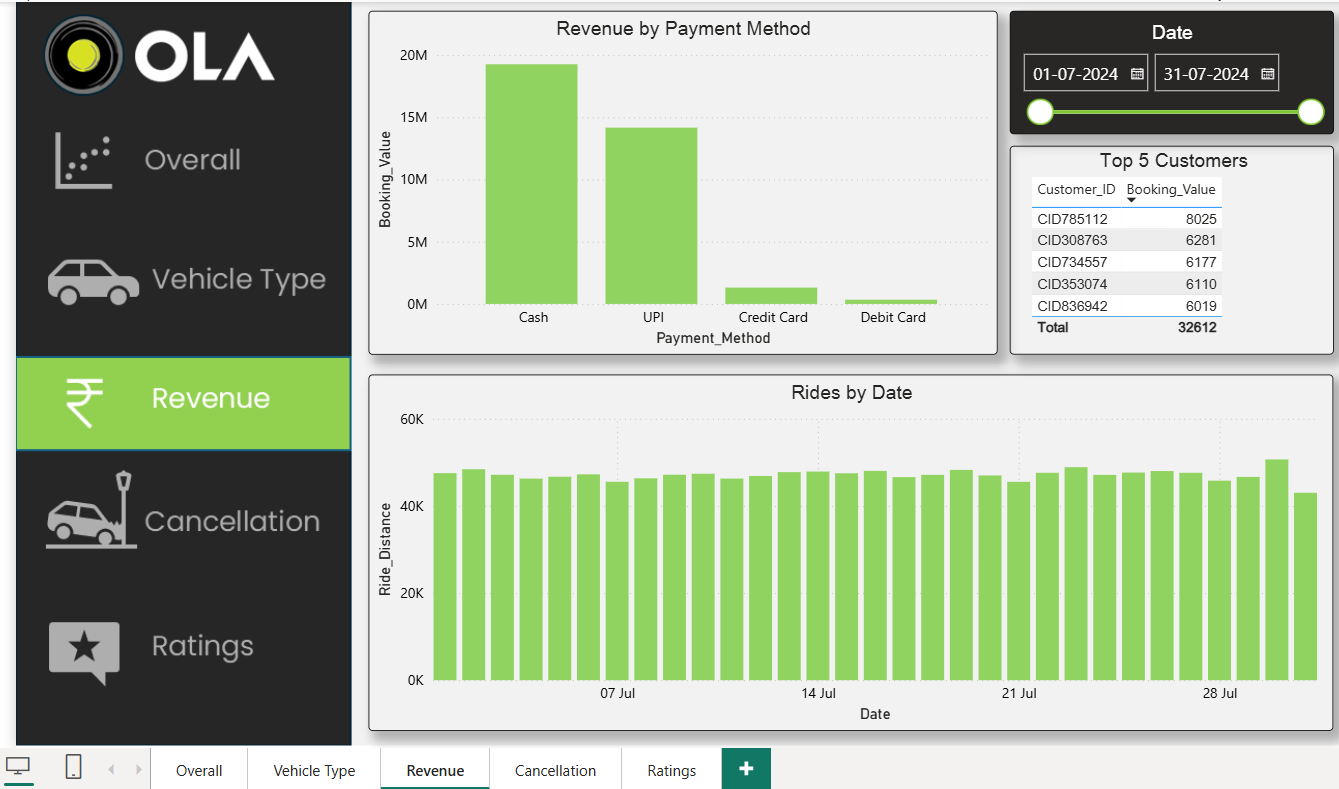

This screenshot's page, from the dashboard's own definition file:
{"tool":"powerbi","page":{"name":"Revenue","canvas":[1280,720],"ordinal":2},"visuals":[{"type":"actionButton","box":[0,219.6,323.3,96.5],"z":0},{"type":"actionButton","box":[0,444,323.3,102.5],"z":1000},{"type":"actionButton","box":[0,569.4,323.3,102.5],"z":2000},{"type":"actionButton","box":[0,106.2,323.3,102.5],"z":3000},{"type":"columnChart","title":"Revenue by Payment Method","fields":{"Y":["Sum(Sheet1 (2).Booking_Value)"],"Category":["Sheet1 (2).Payment_Method"]},"box":[340.2,8.4,606.8,331.8],"z":4000},{"type":"columnChart","title":"Rides by Date","fields":{"Y":["Sum(Sheet1 (2).Ride_Distance)"],"Category":["Sheet1 (2).Date"]},"box":[340.4,359.6,931.5,343.8],"z":5000},{"type":"slicer","title":"Date","fields":{"Values":["Sheet1 (2).Date"]},"box":[959.1,8.4,312.5,119.4],"z":6000},{"type":"tableEx","title":"Top 5 Customers","fields":{"Values":["Sheet1 (2).Customer_ID","Sum(Sheet1 (2).Booking_Value)"]},"box":[959.1,138.7,312.5,201.5],"z":7000}]}

Visuals, with their boxes in screenshot pixels (x1, y1, x2, y2):
actionButton: 14/227/347/326
actionButton: 14/458/347/564
actionButton: 14/587/347/693
actionButton: 14/110/347/215
"Revenue by Payment Method" columnChart: 365/9/991/351
"Rides by Date" columnChart: 365/371/1326/726
"Date" slicer: 1003/9/1326/132
"Top 5 Customers" tableEx: 1003/143/1326/351
